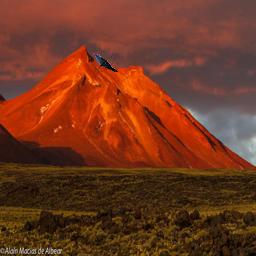Cuckoo: (93, 53, 118, 72)
